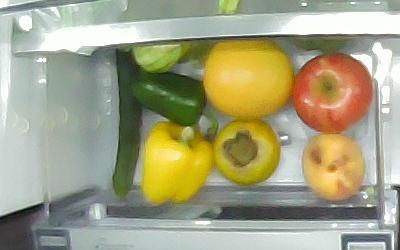apple: (292, 52, 372, 133)
cucumber: (113, 48, 141, 200)
grapefruit: (203, 38, 292, 119)
lettuce: (132, 40, 194, 70)
paprika: (132, 71, 219, 142), (142, 121, 214, 206)
peach: (302, 134, 365, 202)
persimmon: (213, 120, 279, 185)
